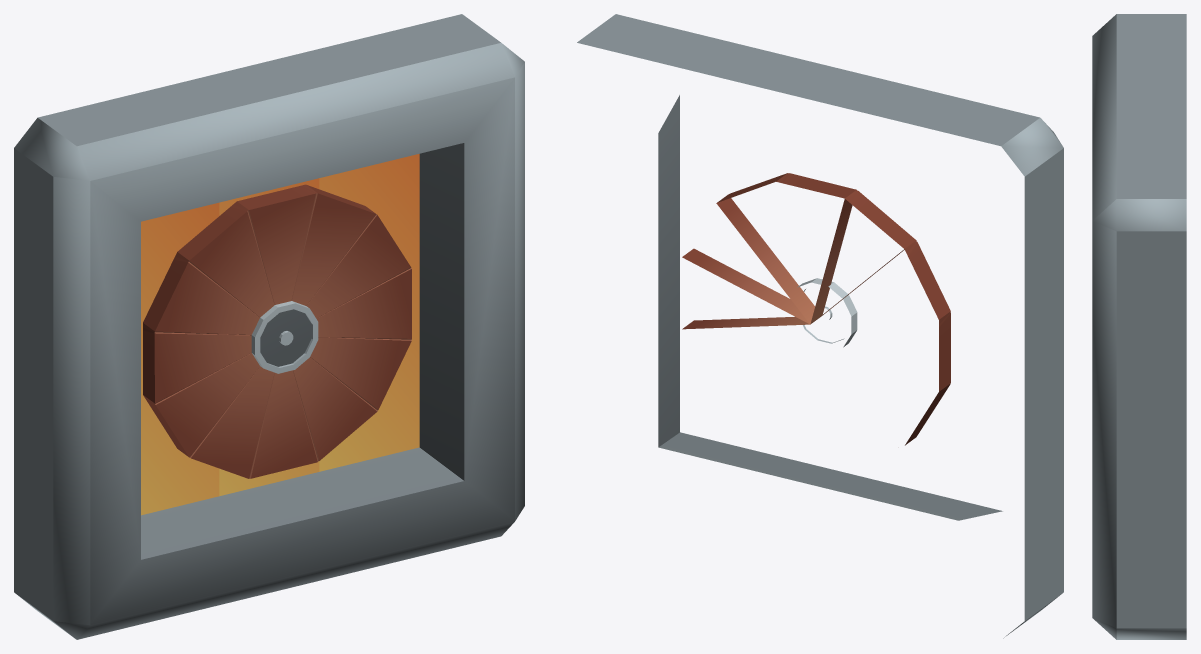
File: spinner.glb
3 renders of one model, left to right at view 1: azimuth 30°, elevation 25°; view 2: azimuth 150°, elevation 25°; view 3: azimuth 270°, elevation 25°, orthographic. The views are drawn at different scales.
Visible parts, largest first — view 1: BoxFrame, Spinner; view 2: BoxFrame, Spinner; view 3: BoxFrame.
Boxes of the visible parts, x1,y1,x2,y2 form: BoxFrame: (14,14,524,639); Spinner: (143,184,411,478); BoxFrame: (577,14,1063,638); Spinner: (682,173,950,445); BoxFrame: (1092,14,1186,639).
Size of the model in its own units: 1.5 by 1.5 by 0.2913.
2 materials, 2 textured.
